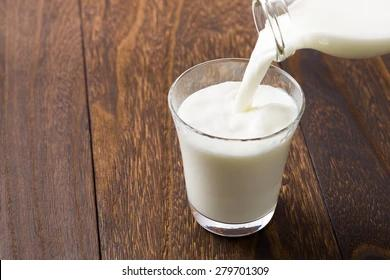produk_susu: (191, 78, 277, 223)
